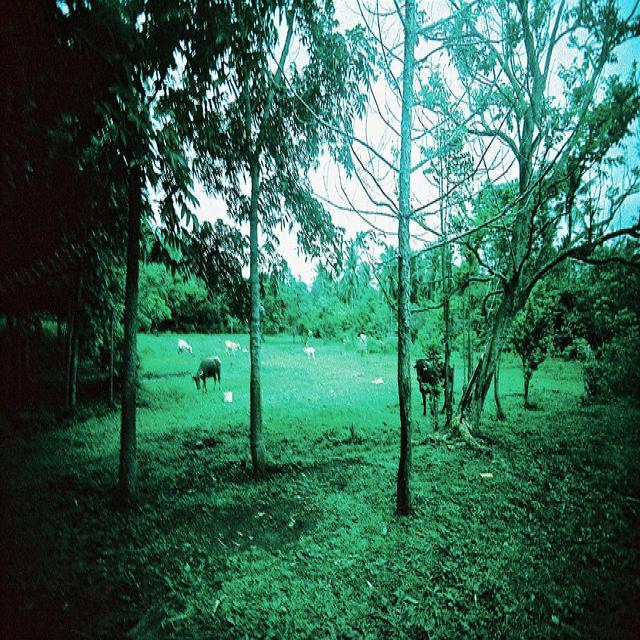cow: (412, 357, 453, 416), (190, 353, 220, 392)
